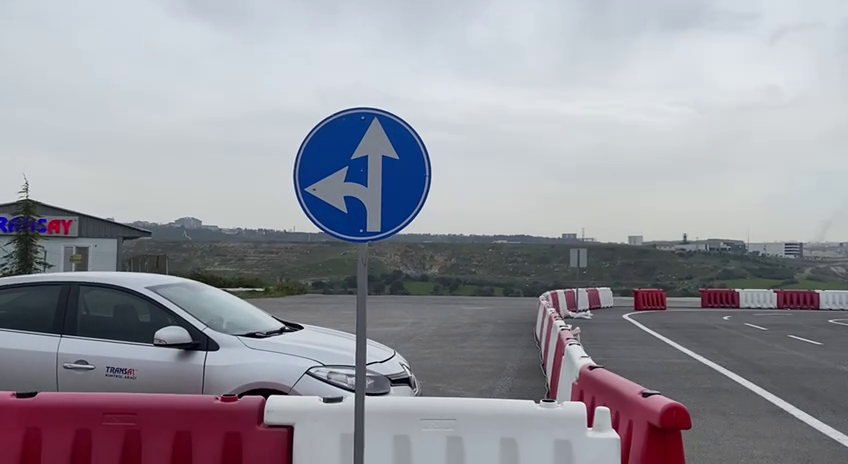forwardAndLeft: (291, 102, 435, 246)
